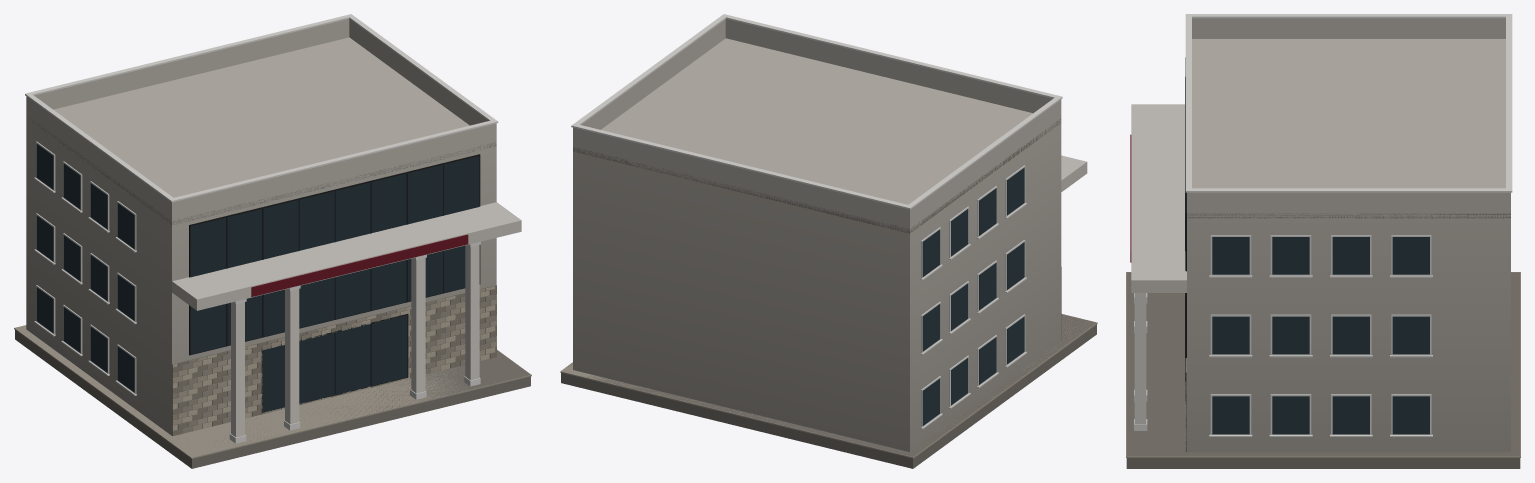
Rendered from ns_bank.glb.
3 renders of one model, left to right at view 1: azimuth 30°, elevation 25°; view 2: azimuth 150°, elevation 25°; view 3: azimuth 270°, elevation 25°, orthographic. The views are drawn at different scales.
Parts seen in each view (by area): view 1: ns_bank; view 2: ns_bank; view 3: ns_bank.
Part boxes in pixels (bbox=[...]): ns_bank: bbox=[14, 14, 531, 468]; ns_bank: bbox=[560, 14, 1097, 468]; ns_bank: bbox=[1126, 14, 1520, 468].
Bounding box in the file's own units: 18.86 × 13.08 × 17.06.
